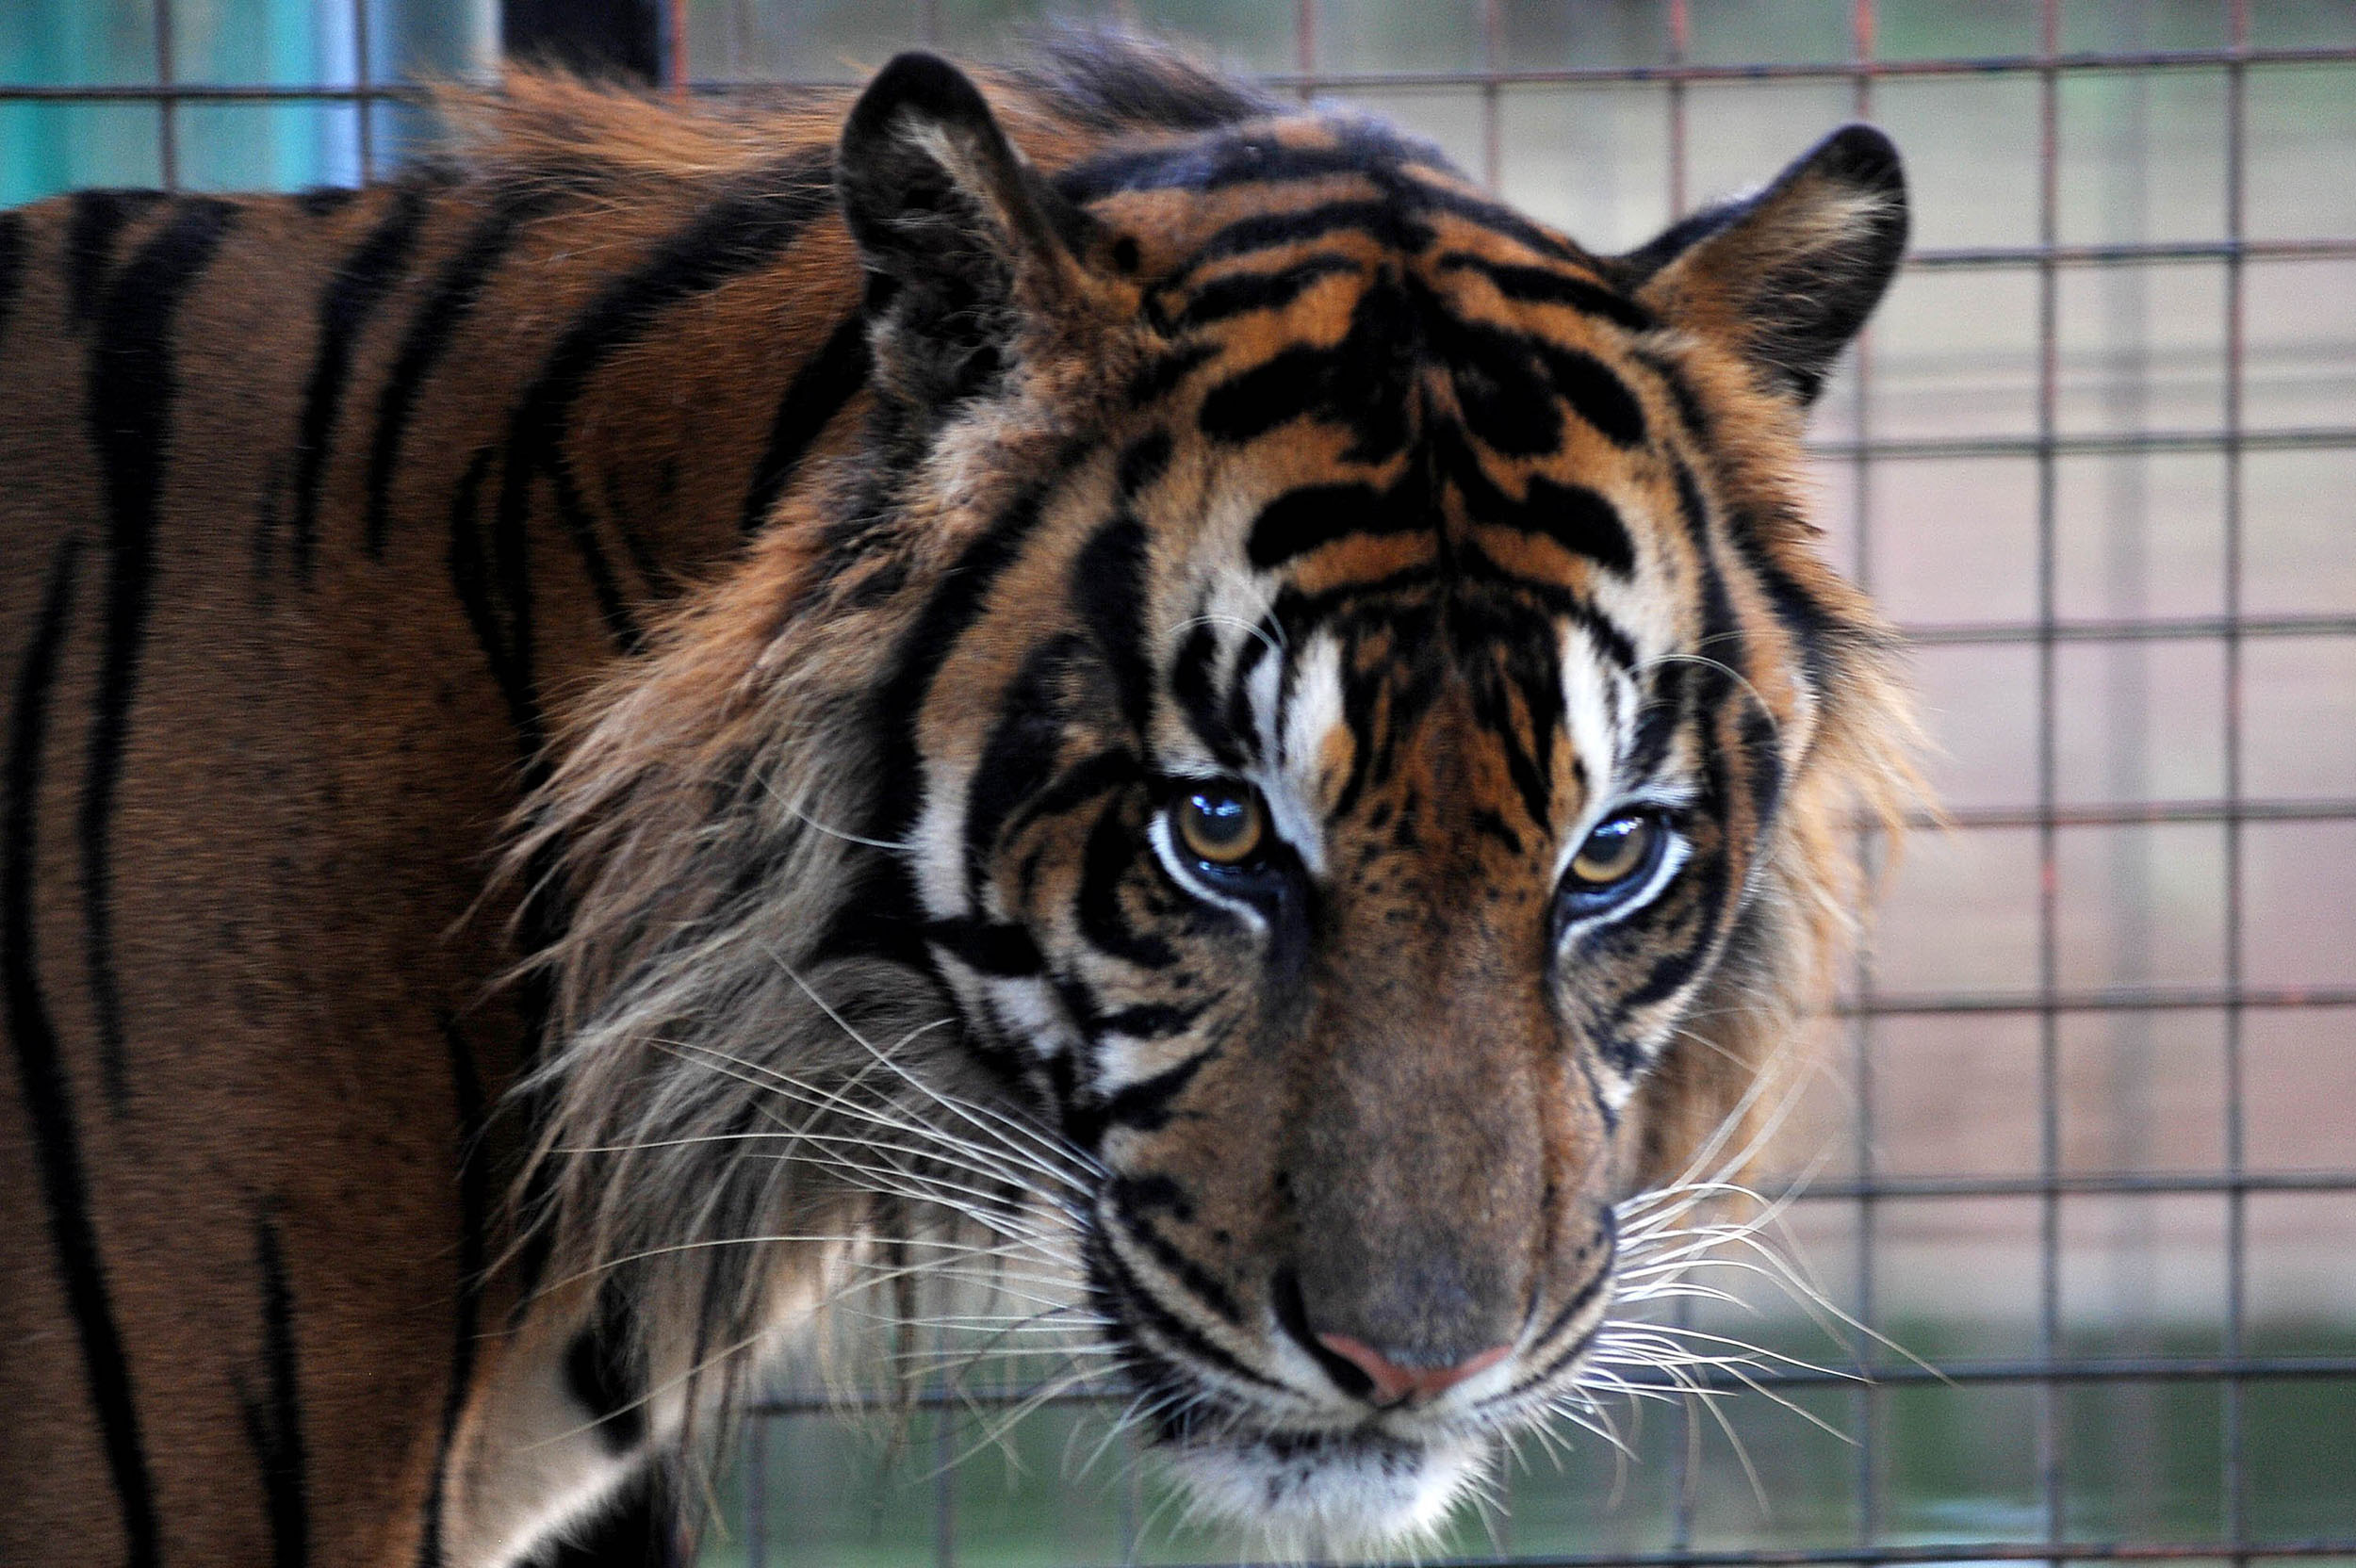Tiger: (2, 44, 1936, 1565)
